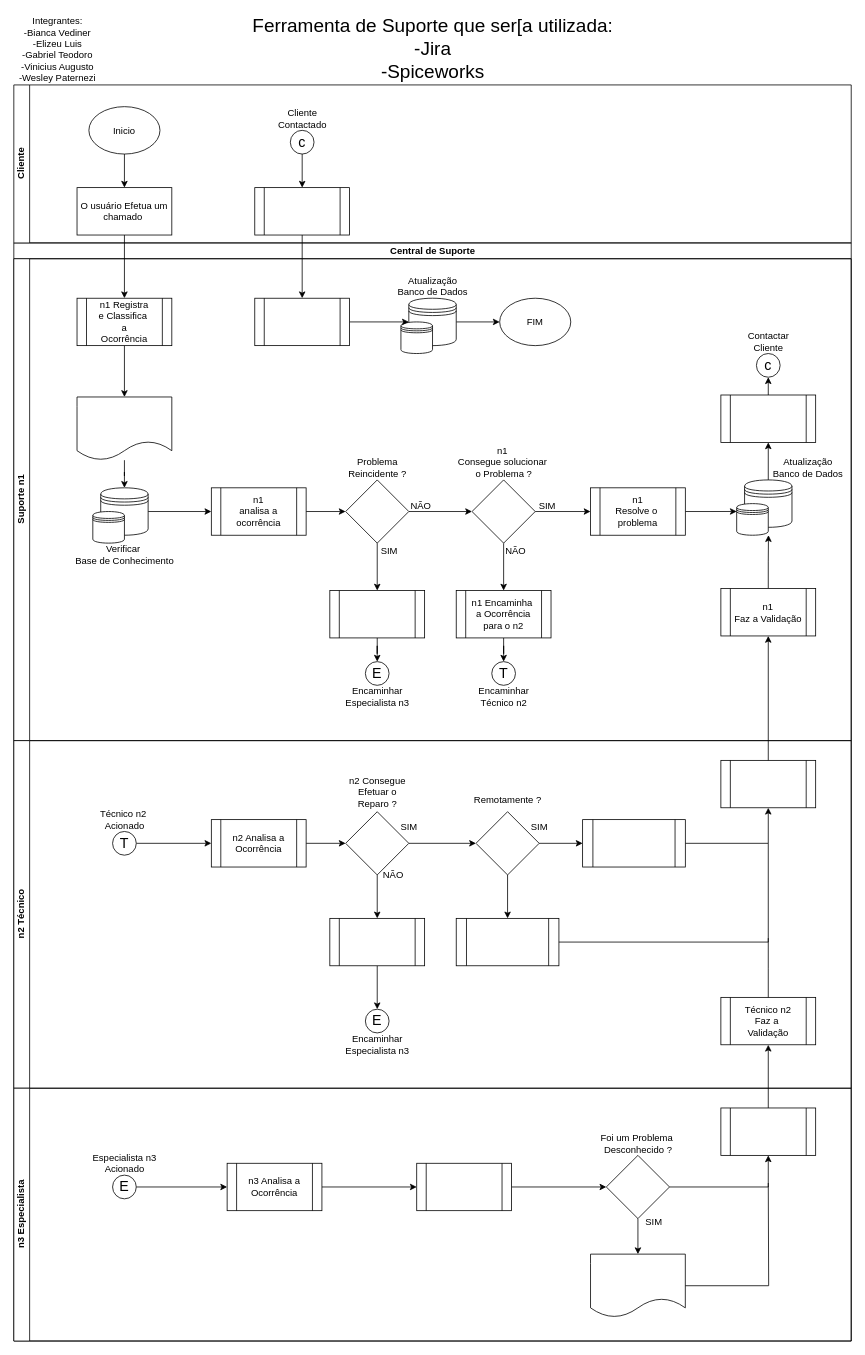
Some shapes in this 865 by 1355 pixel diagram are drawn without their labels. Each missing label, with the centre of its shape:
"Agendamento: Técnico n2 para Efetuar o Reparo" belongs at [507,942].
"Avaliação do Cliente" belongs at [302,211].
"Documento de Registro da Ocorrência" belongs at [124,428].
"Especialista n3 Contacta Técnico n2" belongs at [768,1131].
"Especialista n3 Efetuar o Reparo" belongs at [464,1186].
"n1 Contacta o Cliente" belongs at [768,418].
"n1 Encaminha a Ocorrência para o n3" belongs at [377,614].
"n1 Finaliza a Ocorrência" belongs at [302,321].
"n2 Efetua o Reparo" belongs at [633,843].
"Registro do Erro Desconhecido" belongs at [637,1285].
"Técnico n2 Contacta o Especialista n3" belongs at [377,942].
"Técnico n2 Contacta o Suporte n1" belongs at [768,784].
